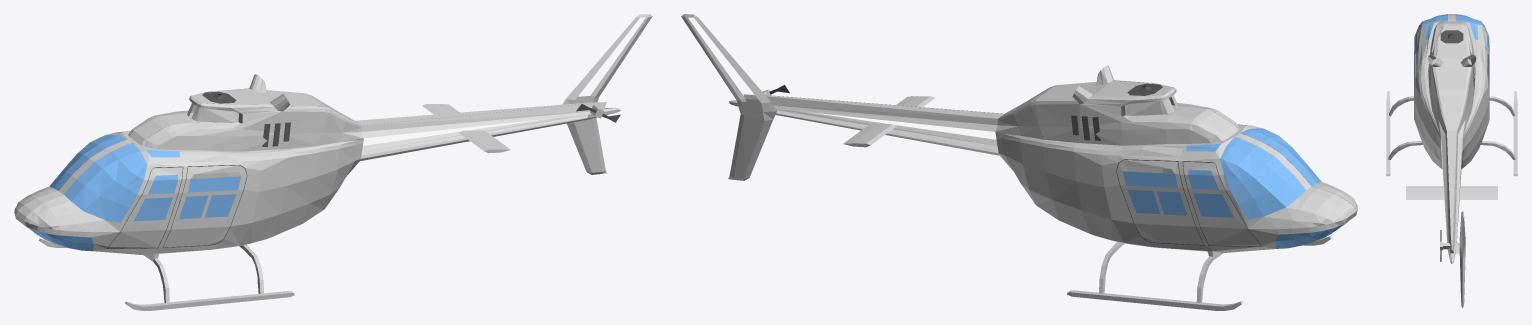
Rendered from helicopter.obj.
3 views of the same model, side by side, from view 1: azimuth 30°, elevation 25°; view 2: azimuth 150°, elevation 25°; view 3: azimuth 270°, elevation 25° (orthographic). The views are drawn at different scales.
Parts seen in each view (by area): view 1: Mesh1 Model, Mesh12 Model, Mesh19 Model, Mesh4 Model, Mesh11 Model; view 2: Mesh1 Model, Mesh12 Model, Mesh5 Model, Mesh8 Model; view 3: Mesh1 Model, Mesh12 Model, Mesh8 Model, Mesh11 Model, Mesh4 Model, Mesh5 Model, Mesh7 Model, Mesh19 Model, Mesh3 Model, Mesh6 Model.
Boxes of the visible parts, x1,y1,x2,y2 form: Mesh1 Model: (14, 74, 620, 303); Mesh12 Model: (562, 14, 652, 174); Mesh19 Model: (361, 103, 587, 131); Mesh4 Model: (125, 291, 294, 310); Mesh11 Model: (459, 130, 510, 151); Mesh1 Model: (729, 65, 1357, 302); Mesh12 Model: (681, 14, 776, 180); Mesh5 Model: (1067, 290, 1242, 310); Mesh8 Model: (843, 124, 896, 147); Mesh1 Model: (1389, 14, 1514, 263); Mesh12 Model: (1455, 211, 1465, 308); Mesh8 Model: (1459, 186, 1497, 199); Mesh11 Model: (1406, 186, 1444, 199); Mesh4 Model: (1386, 91, 1390, 176); Mesh5 Model: (1513, 91, 1517, 176); Mesh7 Model: (1440, 30, 1463, 43); Mesh19 Model: (1445, 131, 1450, 242); Mesh3 Model: (1388, 141, 1422, 159); Mesh6 Model: (1481, 141, 1515, 159).
Size of the model in its own units: 20.86 by 5.64 by 5.01.
